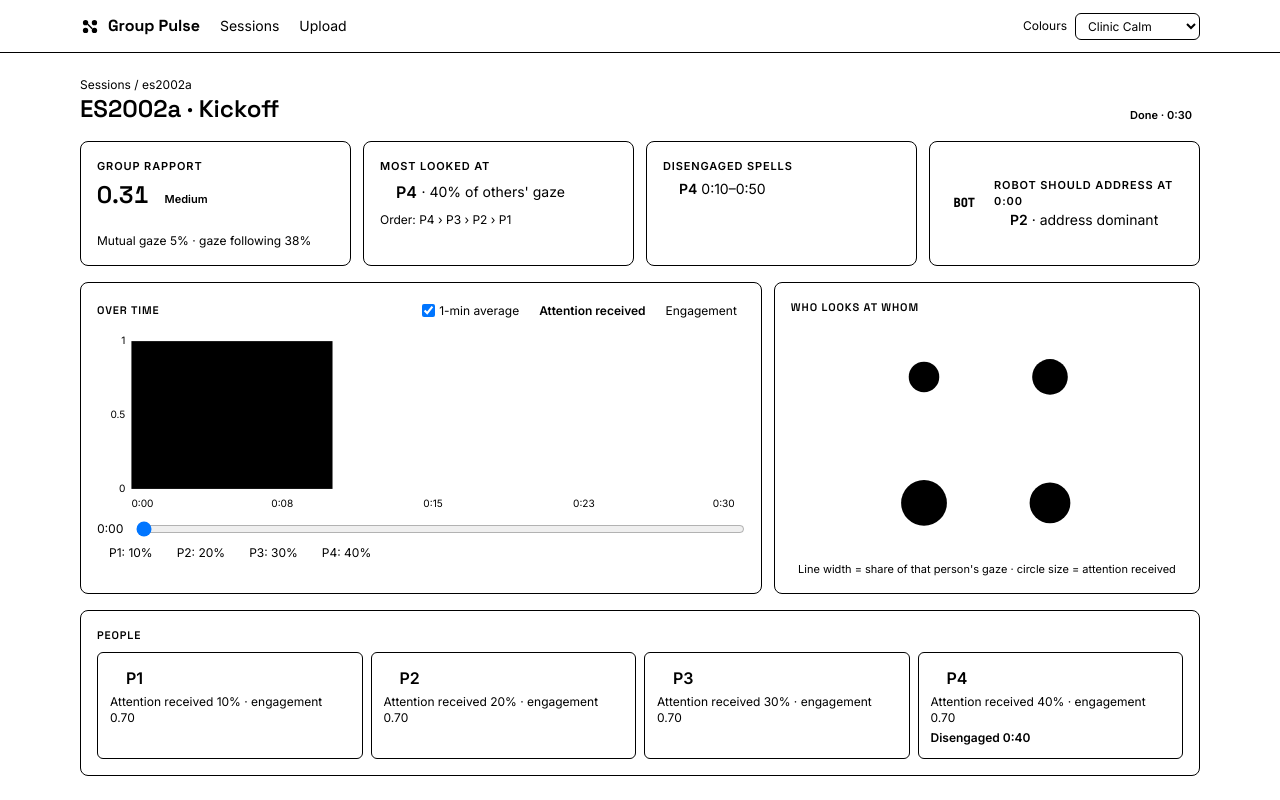
Test case: Session analysis page › T4.3 shows the scores from the API and moves the robot suggestion with the slider
Expected: the text "0.31" is shown, [97,178,148,210]
Expected: the text "Order: P4 › P3 › P2 › P1" is shown, [380,212,511,226]
Set the slider named "Choose a moment" to "2" at (737, 529), box [136,521,745,537]
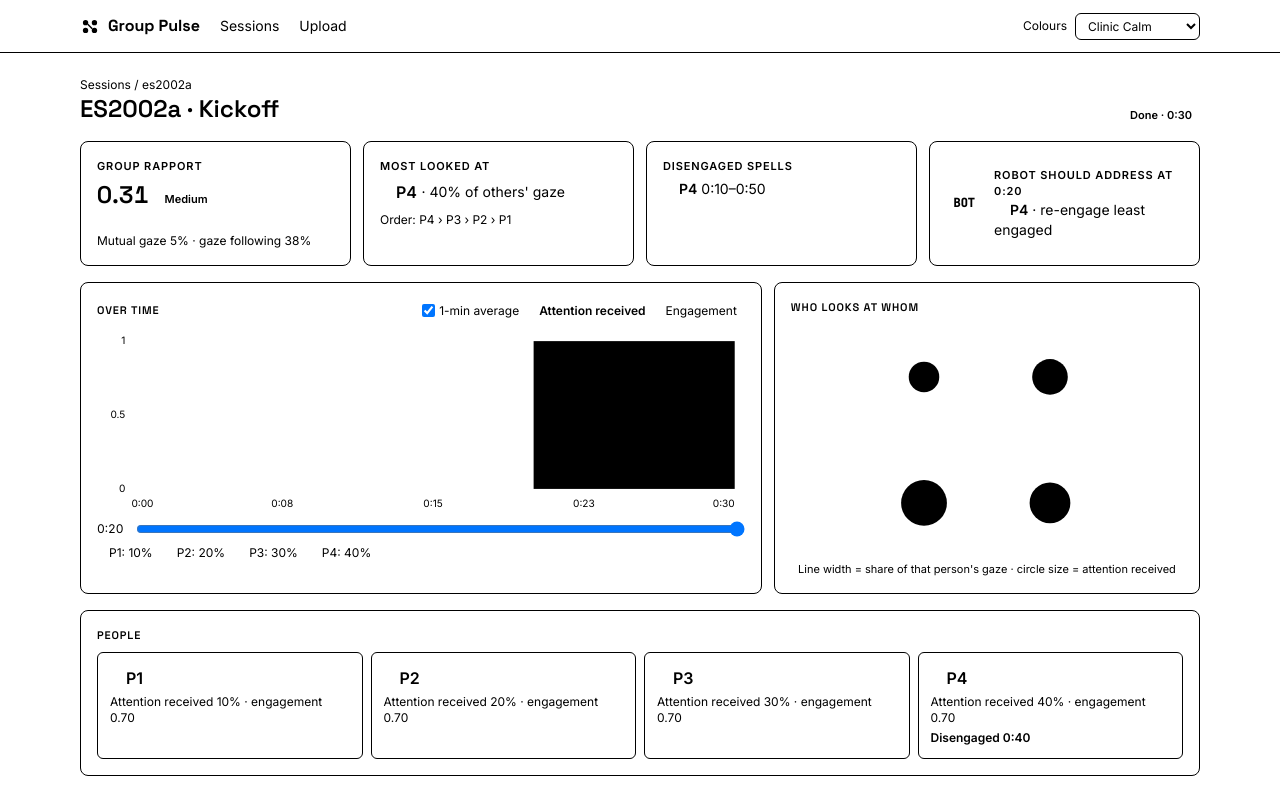
Expected: the text "P4 · re-engage least engaged" is shown, [994,201,1145,238]
